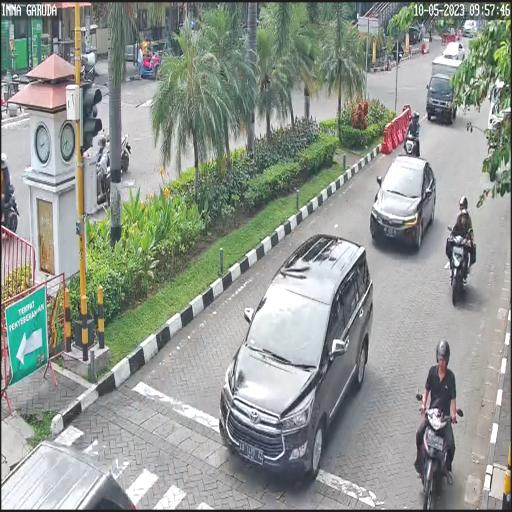mobil: (217, 233, 374, 481), (370, 157, 436, 259), (426, 57, 465, 126)
motor: (412, 393, 457, 511), (446, 224, 476, 310)
